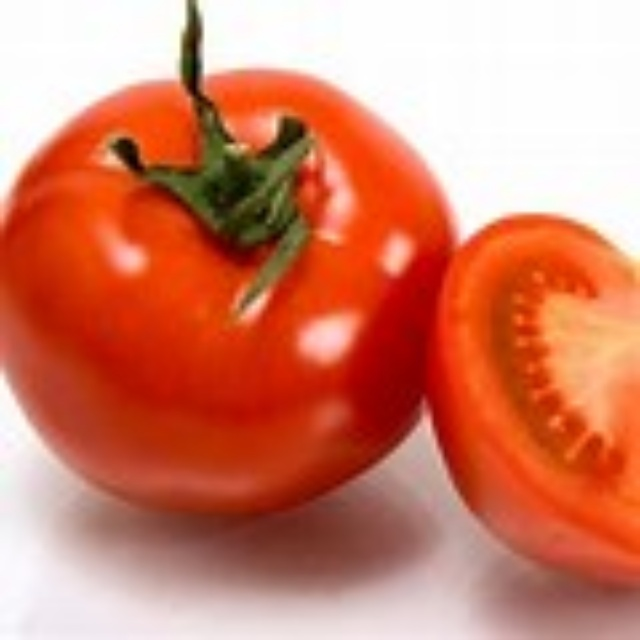tomato: (4, 66, 447, 519), (415, 205, 639, 595)
